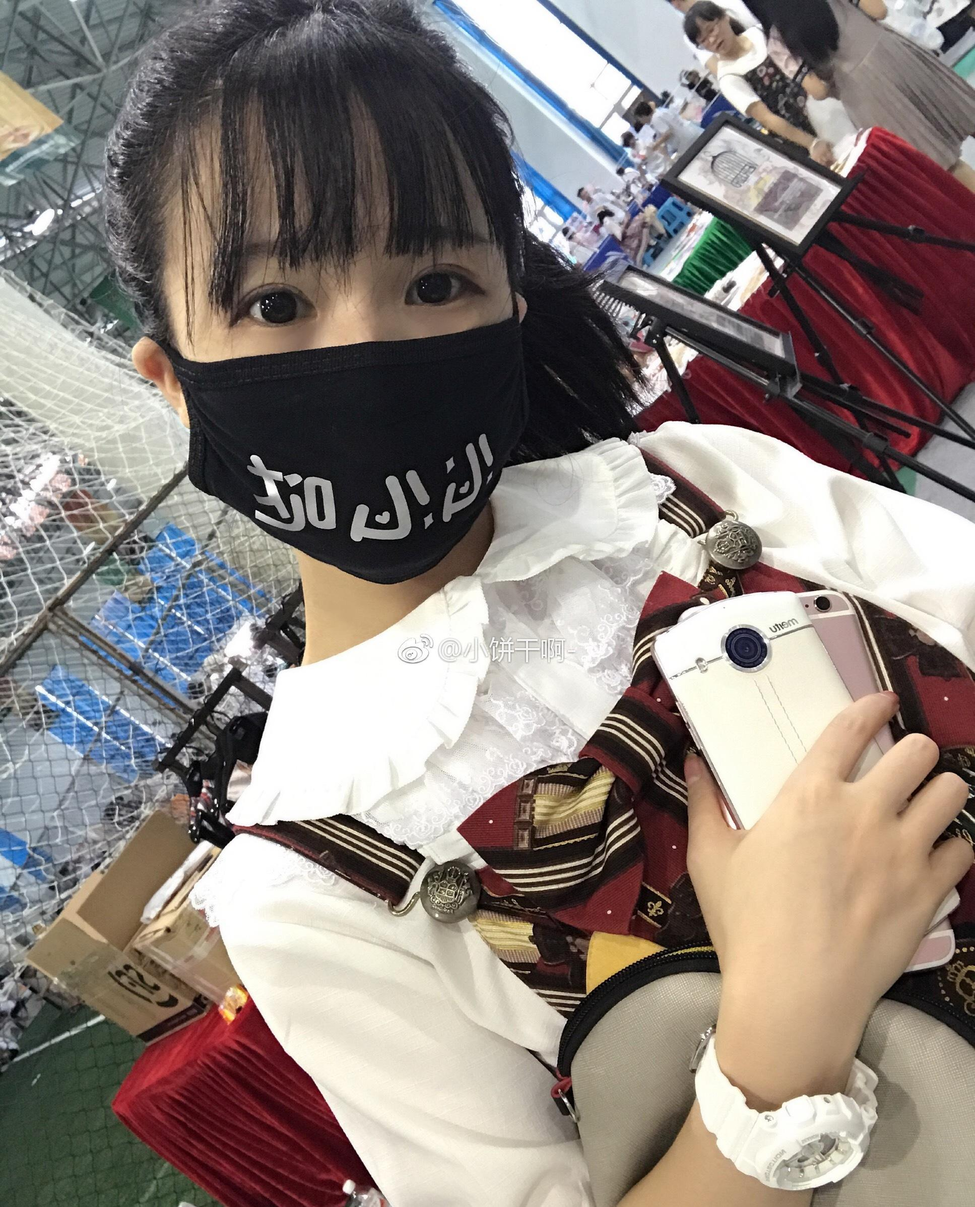NONE: (698, 20, 737, 57)
OK: (175, 194, 515, 557)
